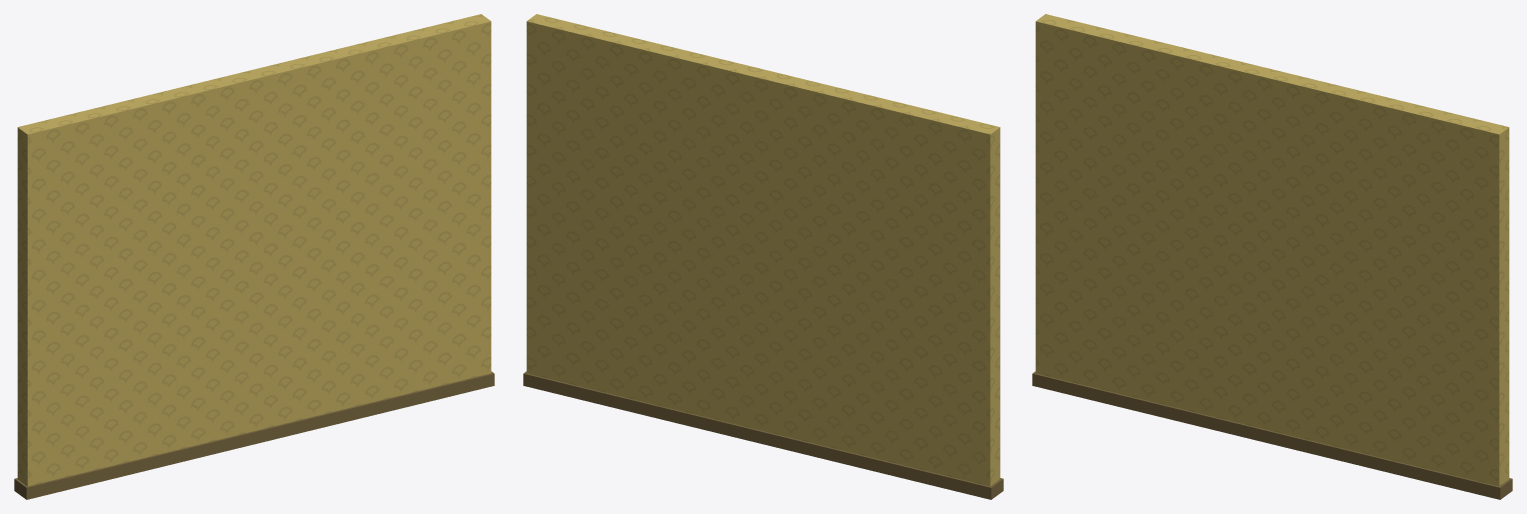
The model's file is BackRoomsWall01Straigh01.FBX.
3 views of the same model, side by side, from view 1: azimuth 30°, elevation 25°; view 2: azimuth 150°, elevation 25°; view 3: azimuth 330°, elevation 25° (orthographic).
Visible parts, largest first — view 1: BackRoomsWall01Straigh01; view 2: BackRoomsWall01Straigh01; view 3: BackRoomsWall01Straigh01.
Boxes of the visible parts, <box> form: BackRoomsWall01Straigh01: <box>14,14,494,499</box>; BackRoomsWall01Straigh01: <box>523,14,1003,499</box>; BackRoomsWall01Straigh01: <box>1032,14,1512,499</box>.
Size of the model in its own units: 404 by 18.54 by 300.
